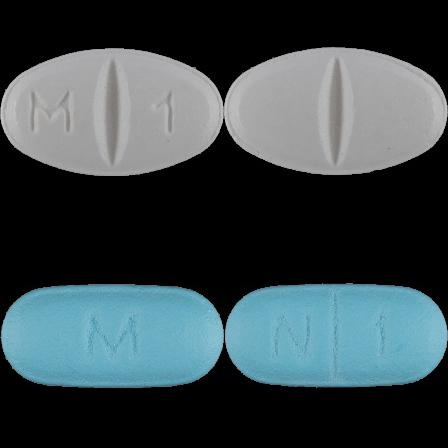52125-901: (0, 0, 224, 224)
